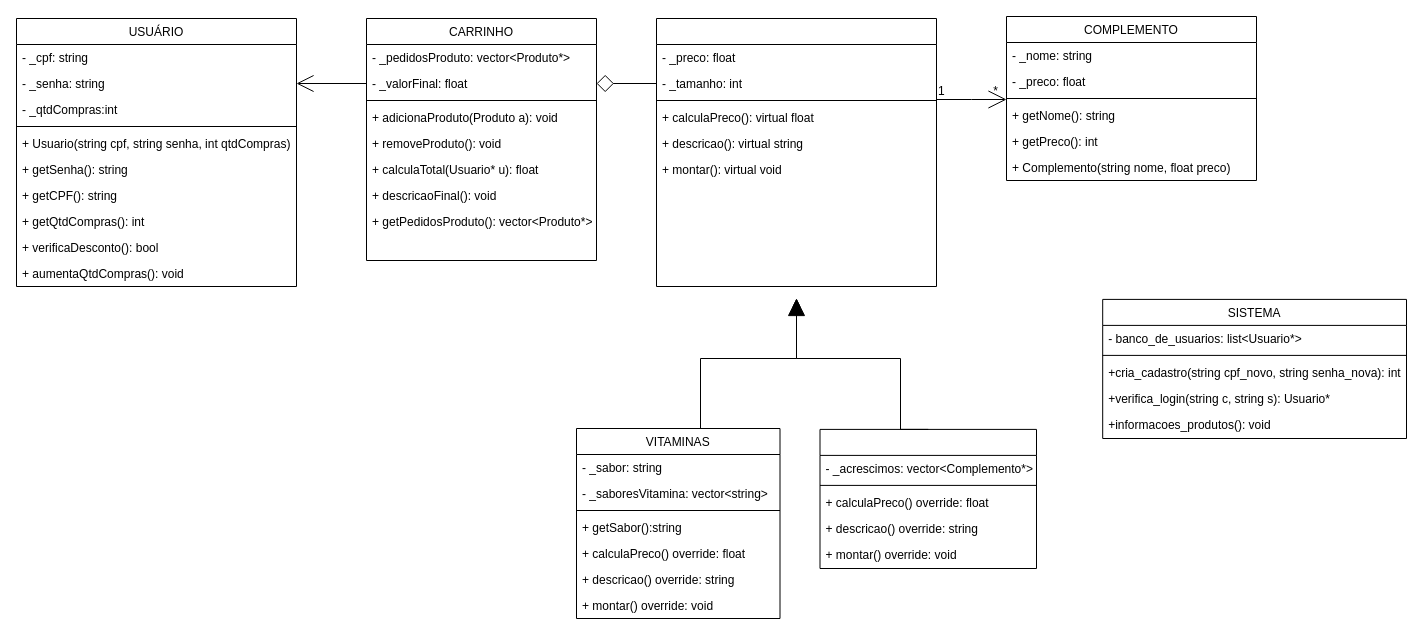
Some shapes in this 1423 by 635 pixel diagram are drawn without their labels. The shapes that lost their labels are listed below. From the top down, each one's box as (x1, y1, x2, y2) in pixels, then its label:
(656, 18, 936, 286): PRODUTOS
(819, 428, 1036, 568): AÇAÍ
